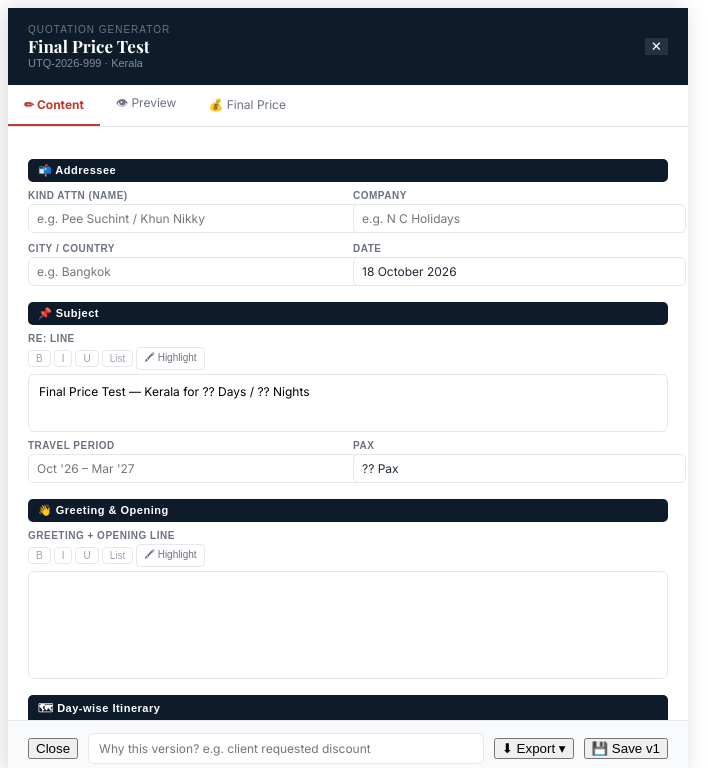
Scenario: Final Price Agreement tab: Pax Paying vs FOC › shows separate Pax Paying and FOC fields, not just one Pax field
Click the button "💰 Final Price" at (247, 106), box [192,85,302,126]
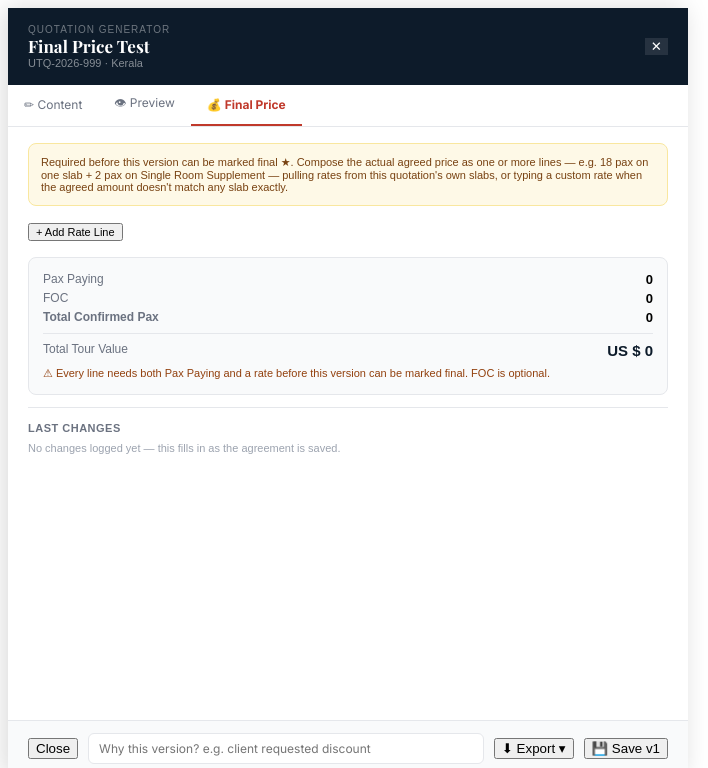
Click the button "+ Add Rate Line" at (75, 232), box [28,223,123,241]
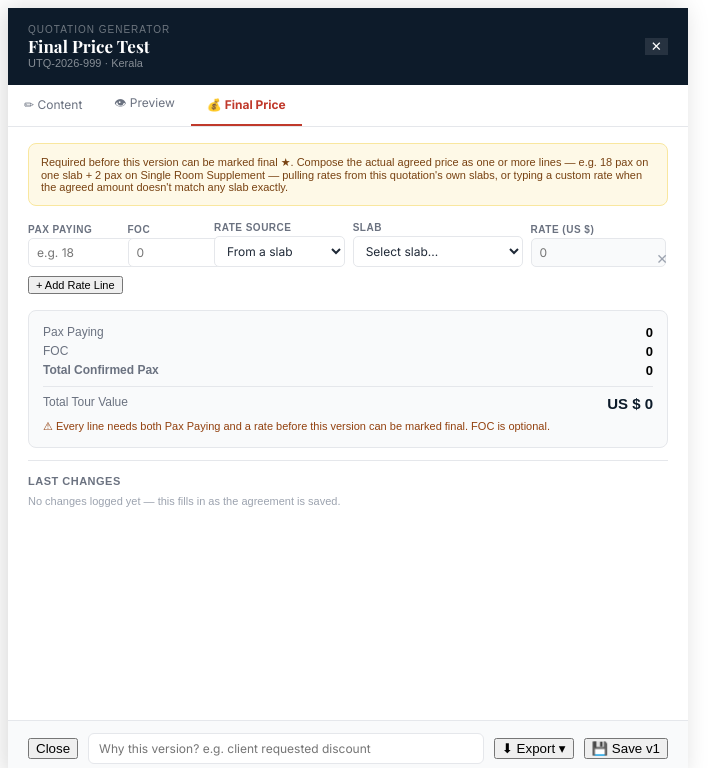
Check: the text "Pax Paying" in the row of "Rate Source" is shown, box [28,224,92,235]
Check: the text "FOC" next to "Rate Source" is shown, box [128,224,150,235]
